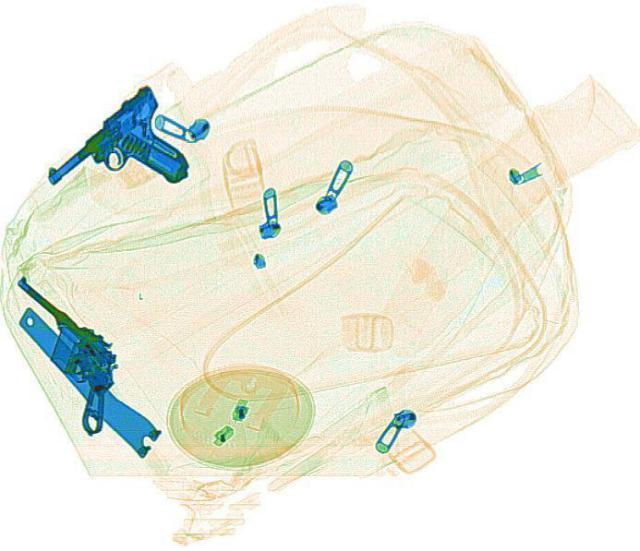Gun: (36, 81, 226, 232), (0, 299, 155, 420)
